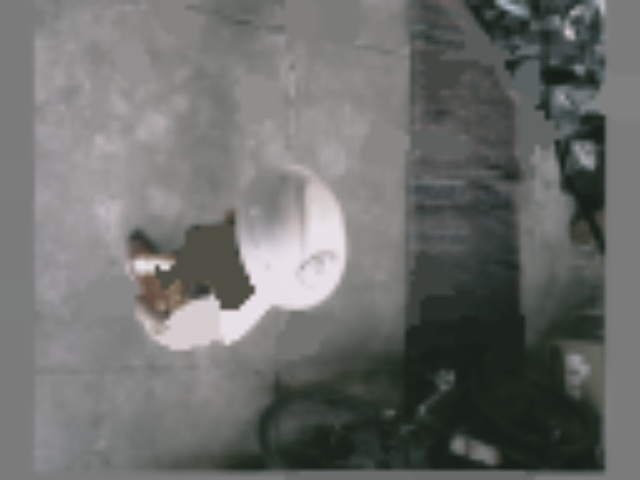three: (299, 254, 336, 285)
